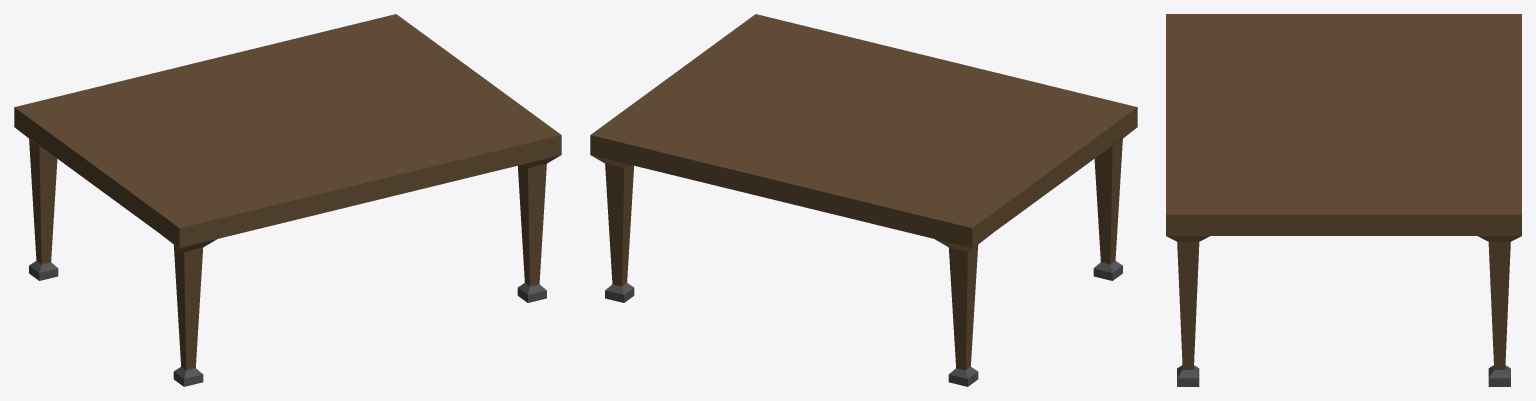
Rendered from Table.fbx.
3 renders of one model, left to right at view 1: azimuth 30°, elevation 25°; view 2: azimuth 150°, elevation 25°; view 3: azimuth 270°, elevation 25°, orthographic. The views are drawn at different scales.
Visible parts, largest first — view 1: Table; view 2: Table; view 3: Table.
Boxes of the visible parts, x1,y1,x2,y2 form: Table: (14, 14, 561, 386); Table: (590, 14, 1137, 386); Table: (1166, 14, 1521, 386).
Size of the model in its own units: 1200 by 495 by 900.
